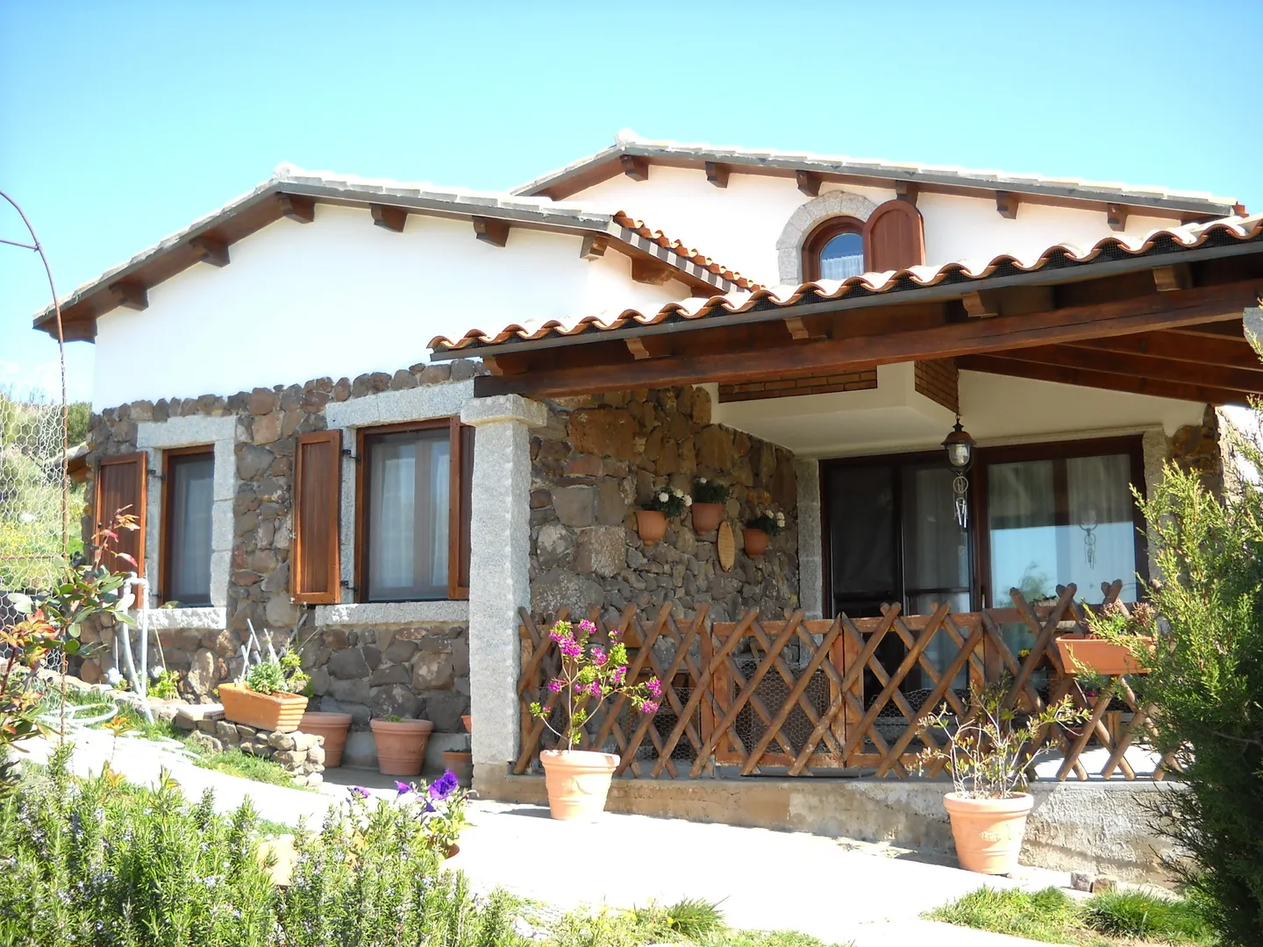House: (32, 118, 1247, 882)
